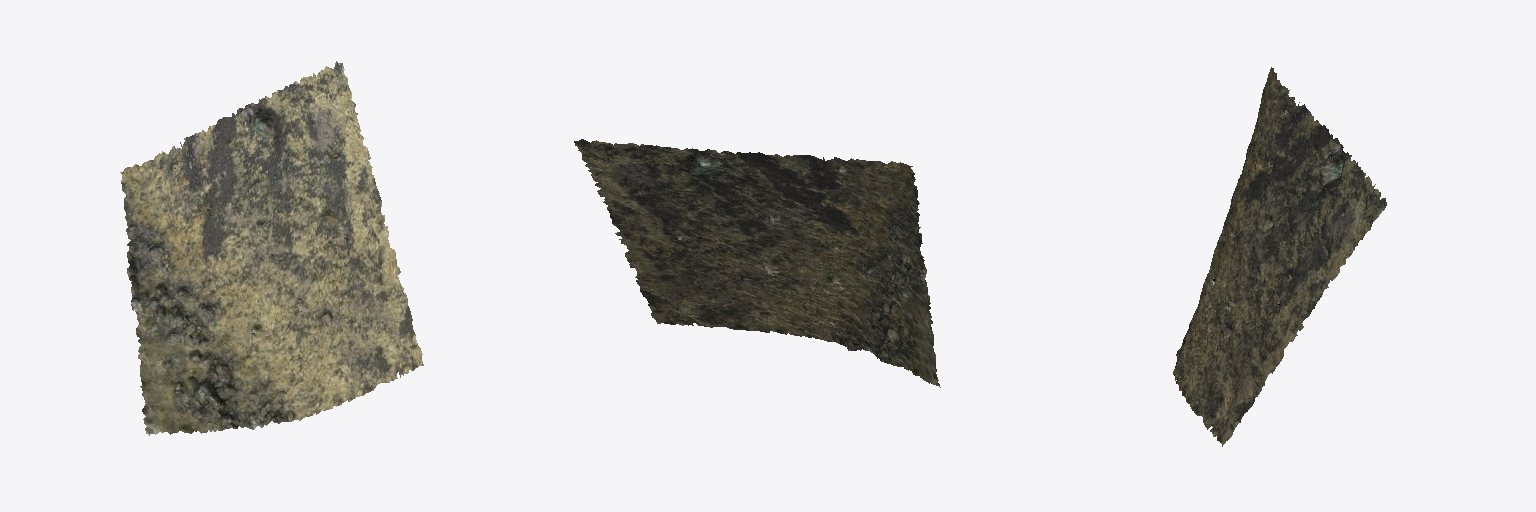
The picture shows the model from 3 angles: view 1: azimuth 30°, elevation 25°; view 2: azimuth 150°, elevation 25°; view 3: azimuth 270°, elevation 25°; orthographic projection.
Bounding box in the file's own units: 1.14 × 0.9495 × 0.7477.
1 materials, 1 textured.